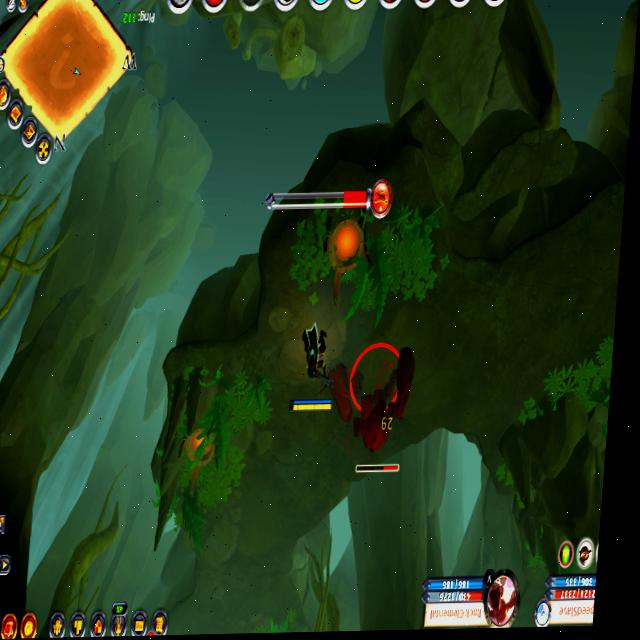ore: (331, 331, 416, 474)
red: (286, 314, 342, 413)
